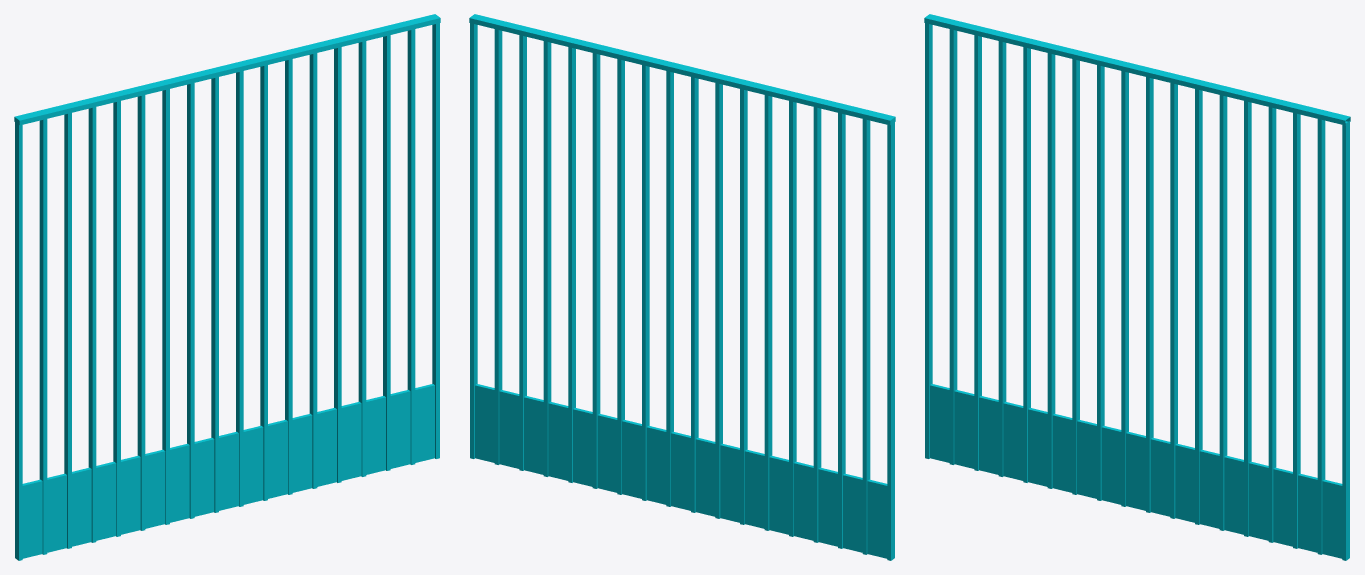
The model's file is Partitions_073.glb.
3 renders of one model, left to right at view 1: azimuth 30°, elevation 25°; view 2: azimuth 150°, elevation 25°; view 3: azimuth 330°, elevation 25°, orthographic.
Parts seen in each view (by area): view 1: Partitions_073; view 2: Partitions_073; view 3: Partitions_073.
Boxes of the visible parts, x1=… form: Partitions_073: x1=14, y1=14, x2=440, y2=560; Partitions_073: x1=469, y1=14, x2=895, y2=560; Partitions_073: x1=924, y1=14, x2=1350, y2=560.
Bounding box in the file's own units: 4 × 4 × 0.0898.
Materials: 1 (1 with a texture image).
